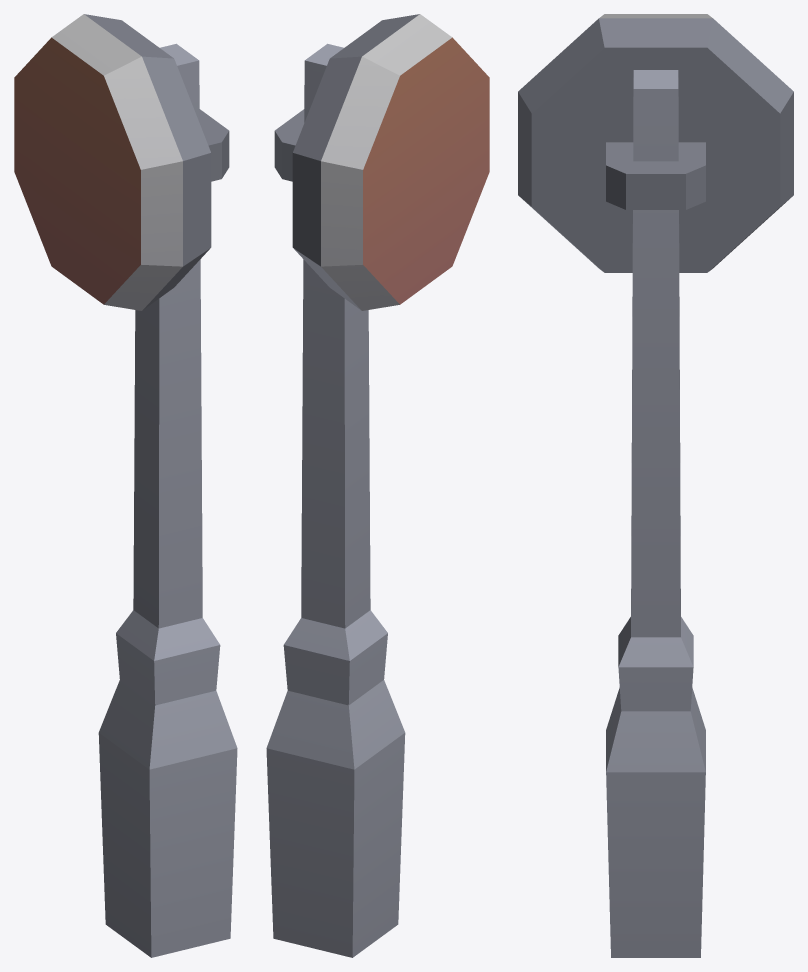
The model's file is stop-sign.glb.
3 views of the same model, side by side, from view 1: azimuth 30°, elevation 25°; view 2: azimuth 150°, elevation 25°; view 3: azimuth 270°, elevation 25° (orthographic).
Visible parts, largest first — view 1: stop-sign; view 2: stop-sign; view 3: stop-sign.
Part boxes in pixels (x1,y1,x2,y2): stop-sign: (14, 14, 237, 957); stop-sign: (266, 14, 489, 957); stop-sign: (518, 14, 793, 957).
Size of the model in its own units: 0.0775 by 0.4941 by 0.1382.
